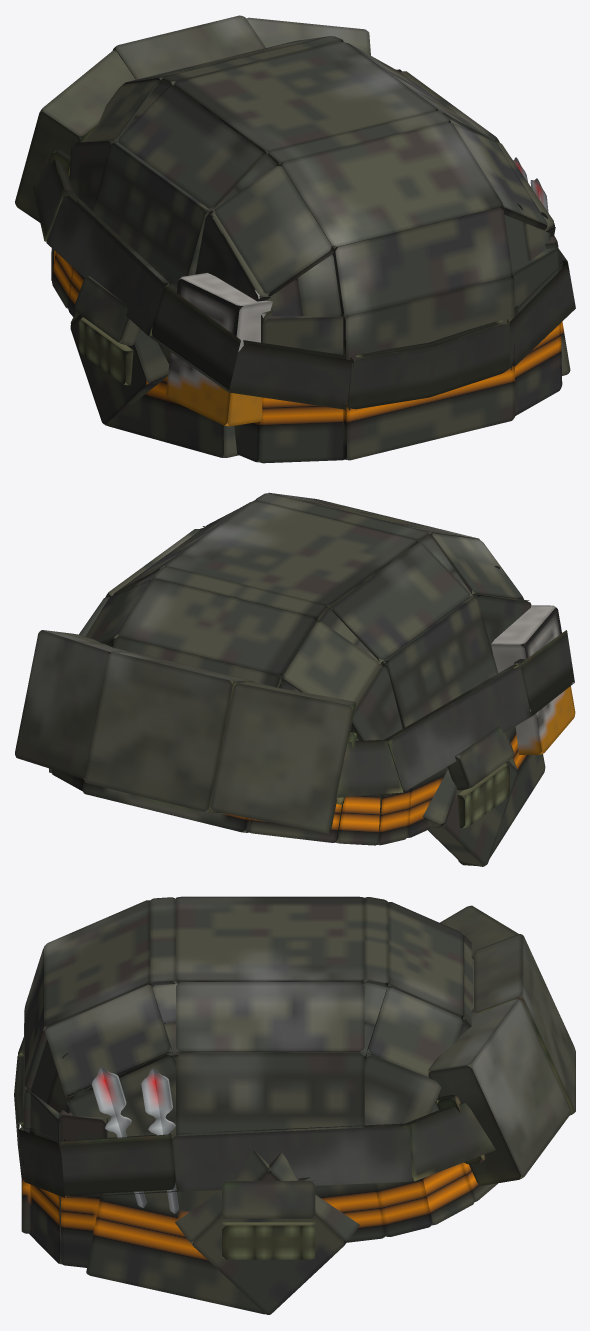
The model's file is ratnik_veteran_h.obj.
The picture shows the model from 3 angles, top to bottom: view 1: azimuth 30°, elevation 25°; view 2: azimuth 150°, elevation 25°; view 3: azimuth 270°, elevation 25°; orthographic projection. The views are drawn at different scales.
Visible parts, largest first — view 1: cuboid; view 2: cuboid; view 3: cuboid.
Part boxes in pixels (x1,y1,x2,y2): cuboid: (15,15,575,463); cuboid: (15,492,575,866); cuboid: (14,896,575,1314).
Size of the model in its own units: 0.8065 by 0.521 by 0.9393.
